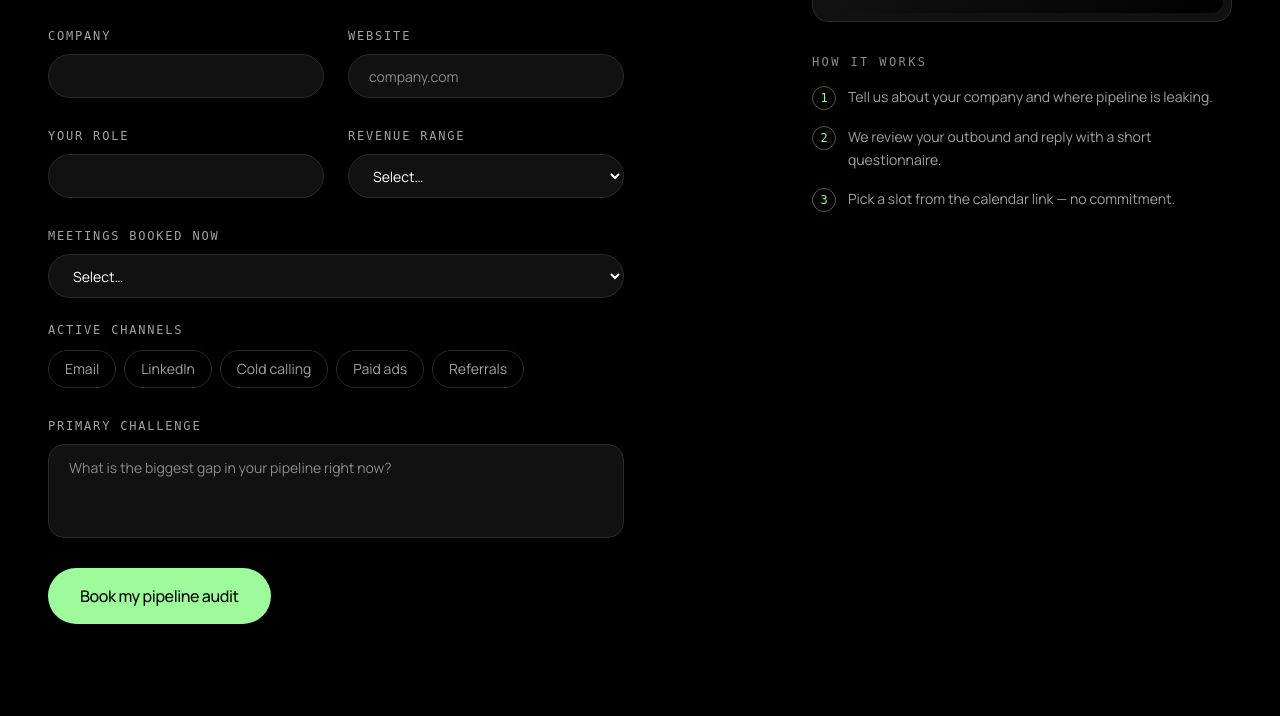
PipelineAuditForm › shows validation errors when submitting empty required fields
(page scrolled)
Click the button "Book my pipeline audit" at (159, 596), box [48,568,271,624]
(page scrolled)
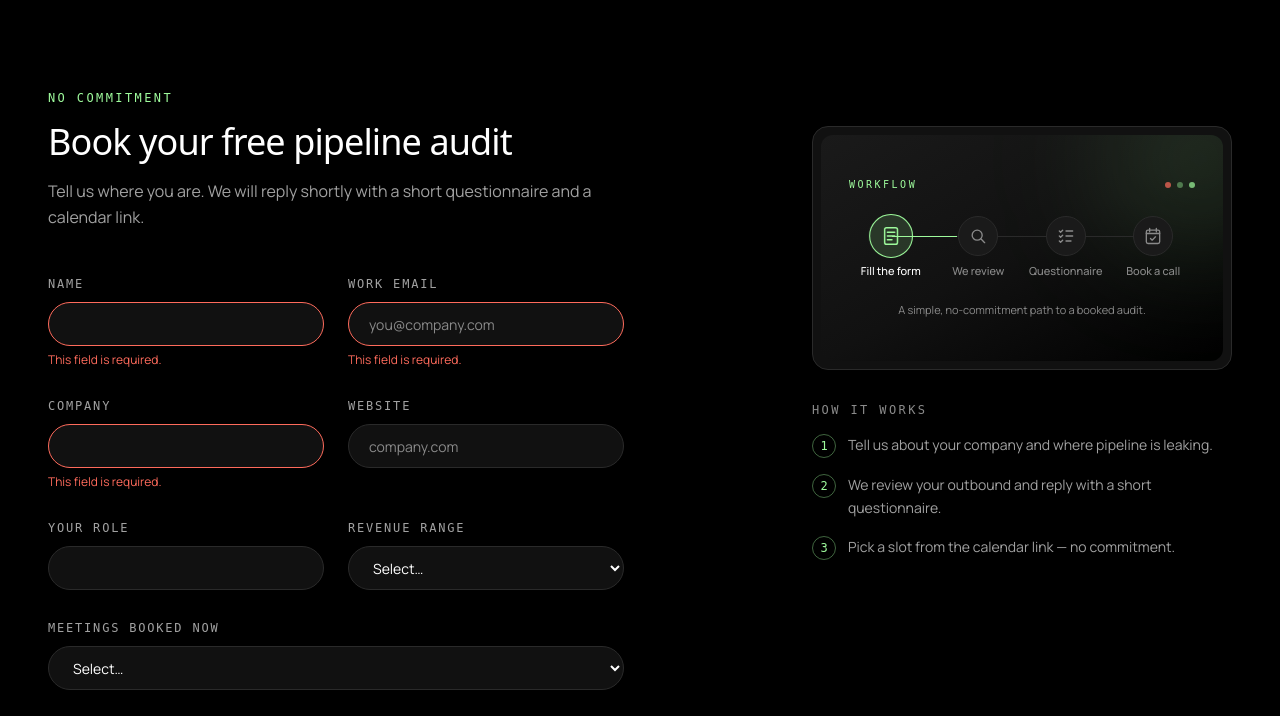
Check: the text "This field is required." below "Name" is shown, box [48,351,162,368]
